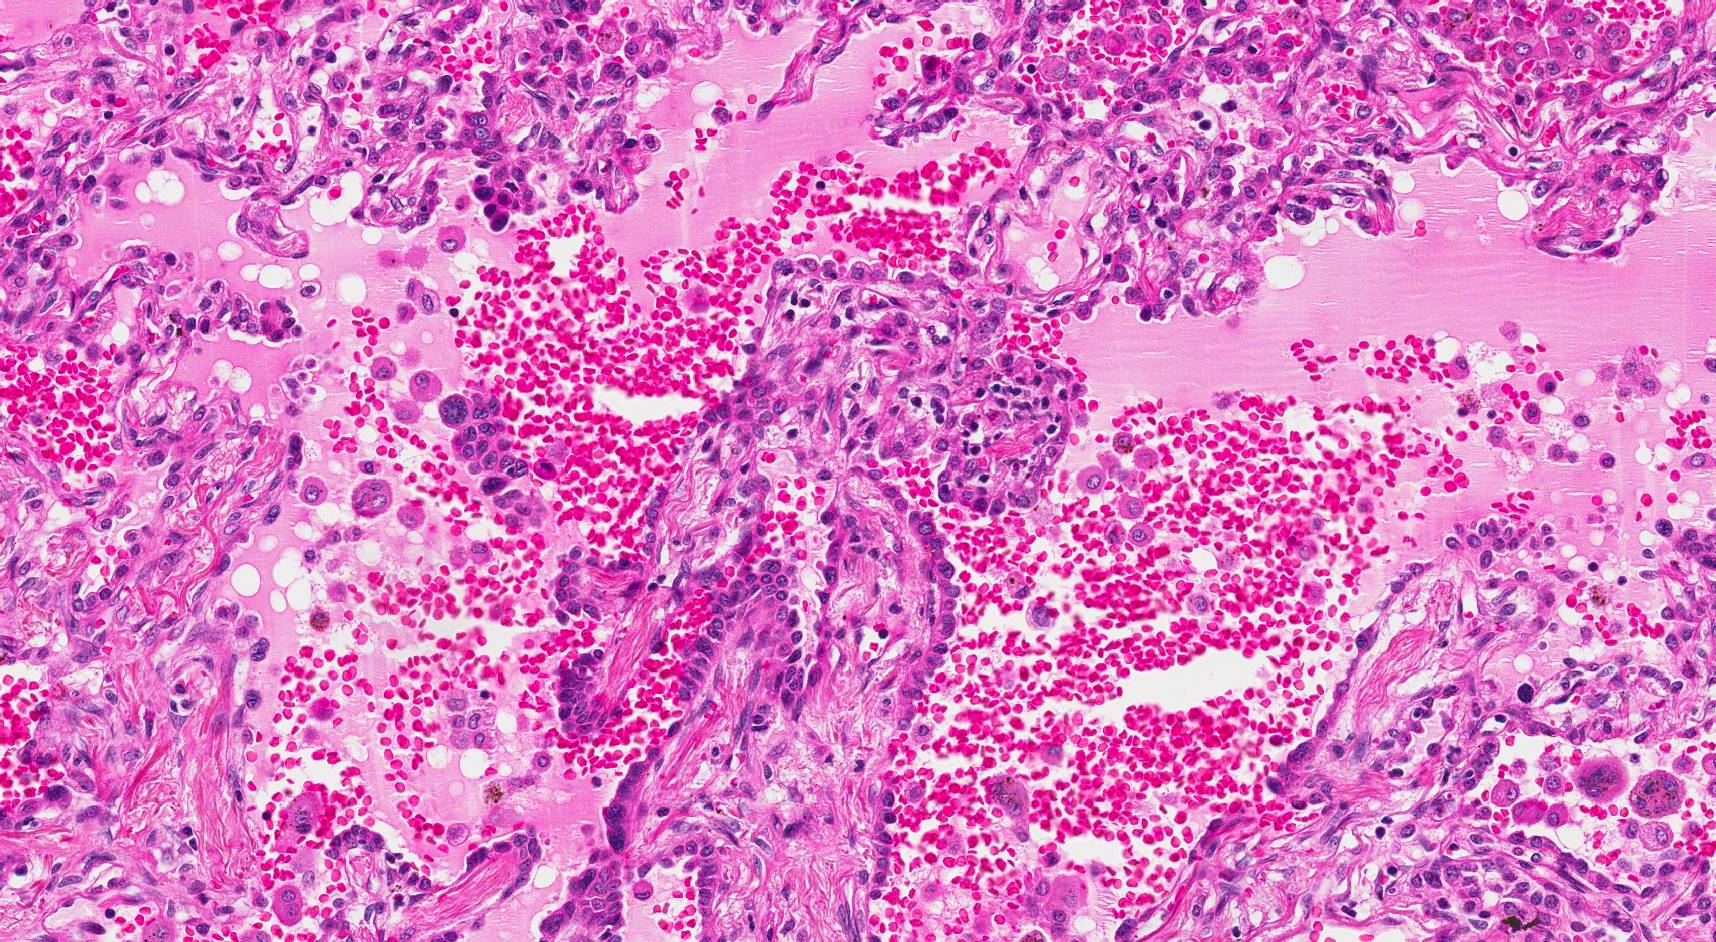stas: (436, 393, 529, 498)
